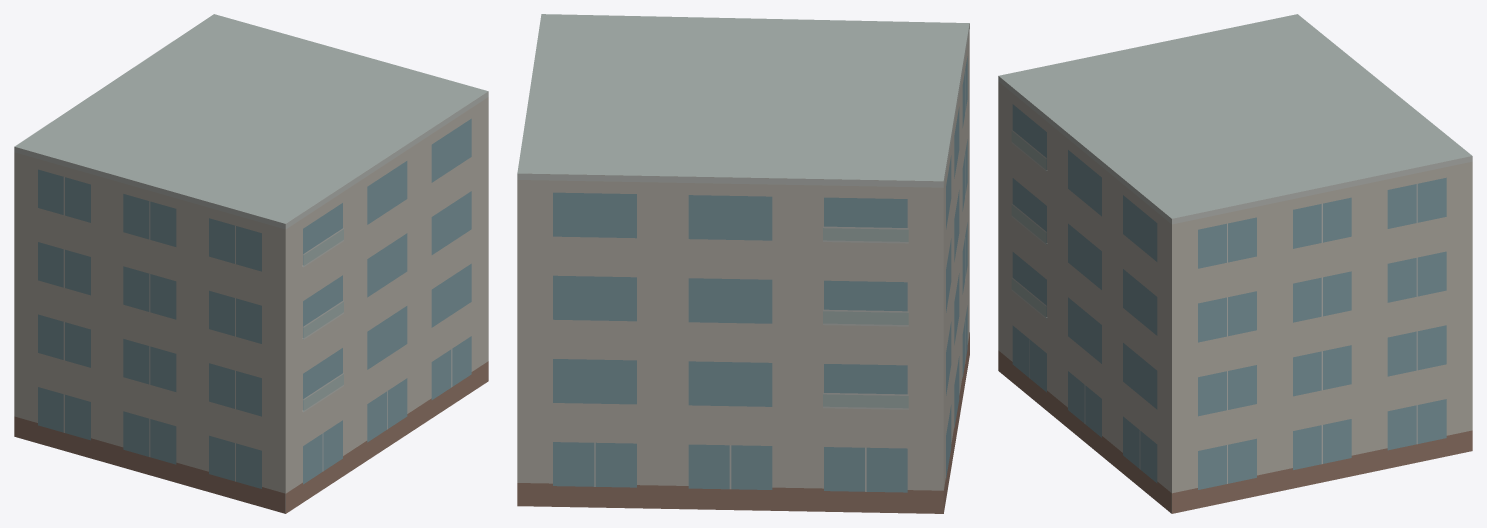
The model's file is survey-upis-32905039.glb.
The picture shows the model from 3 angles, left to right: view 1: azimuth 30°, elevation 25°; view 2: azimuth 150°, elevation 25°; view 3: azimuth 270°, elevation 25°; orthographic projection. The views are drawn at different scales.
Visible parts, largest first — view 1: survey-upis-32905039.tmp; view 2: survey-upis-32905039.tmp; view 3: survey-upis-32905039.tmp.
Part boxes in pixels (x1,y1,x2,y2): survey-upis-32905039.tmp: (14, 14, 488, 513); survey-upis-32905039.tmp: (517, 14, 969, 513); survey-upis-32905039.tmp: (998, 14, 1472, 513).
Bounding box in the file's own units: 18.92 × 12.7 × 18.51.
